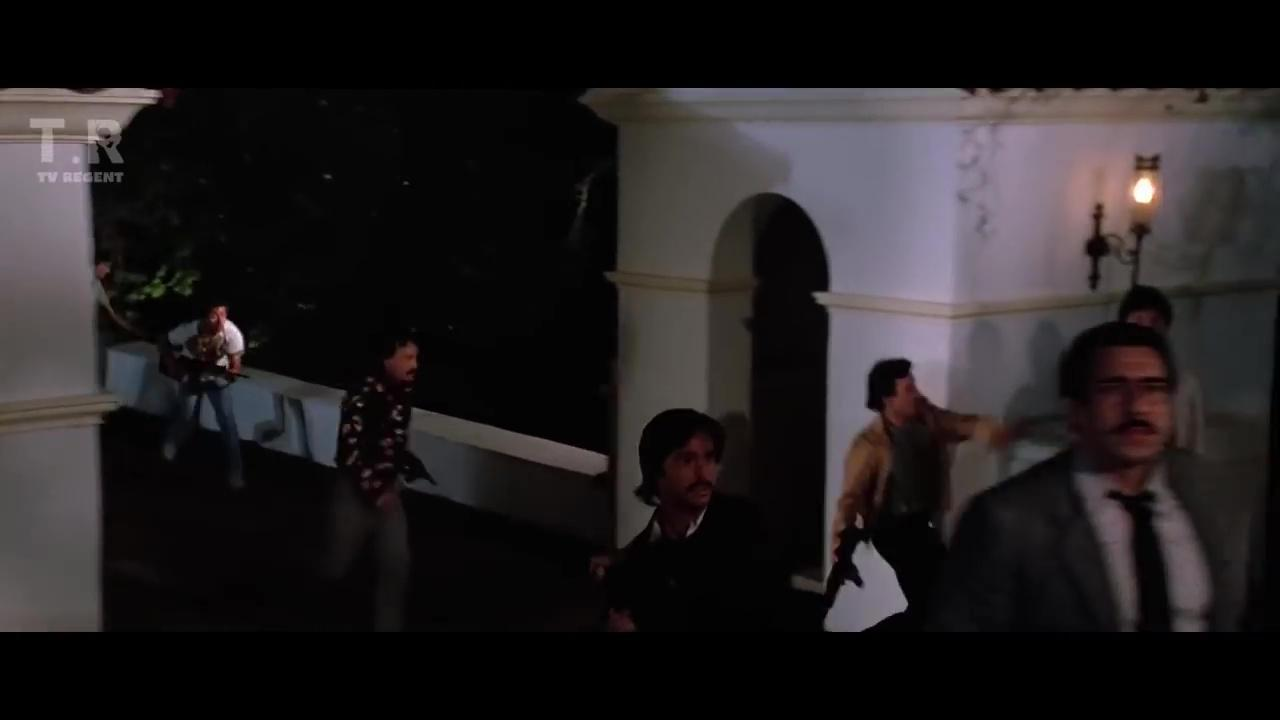Gun: (830, 526, 869, 627), (174, 347, 250, 386), (387, 440, 431, 482)
